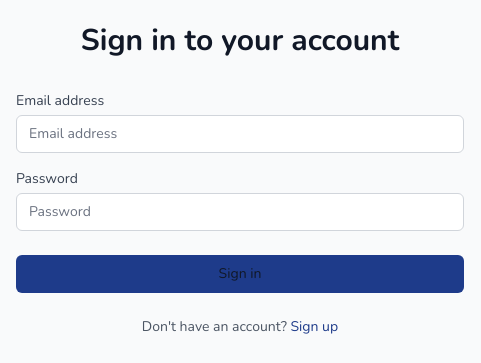
LoginForm › should display validation error for short password
Step 1. Type "test@example.com" into the field with placeholder "Email address" → (240, 134), box [16,115,464,153]
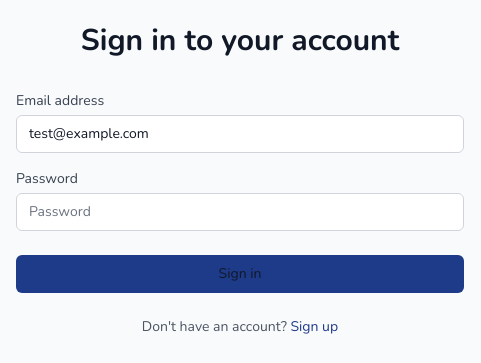
Step 2. Type "123" into the password field with placeholder "Password" → (240, 212), box [16,193,464,231]
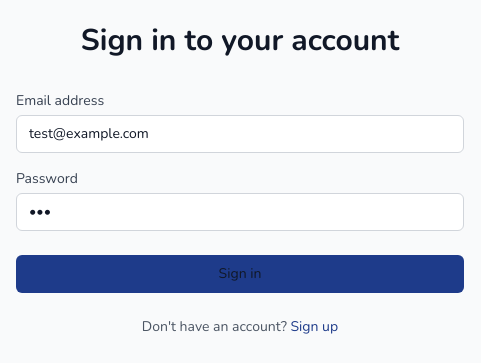
Step 3. Click the button "Sign in" → (240, 274), box [16,255,464,293]
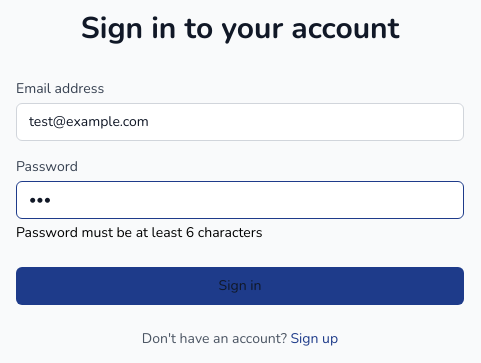
Result: the text "Password must be at least 6 characters" is shown at [16,223,262,242]
